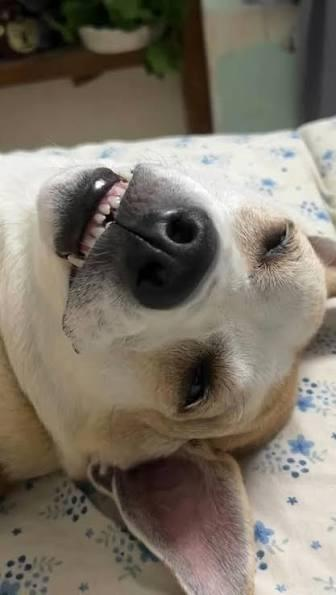adult_dog: (0, 146, 336, 595)
